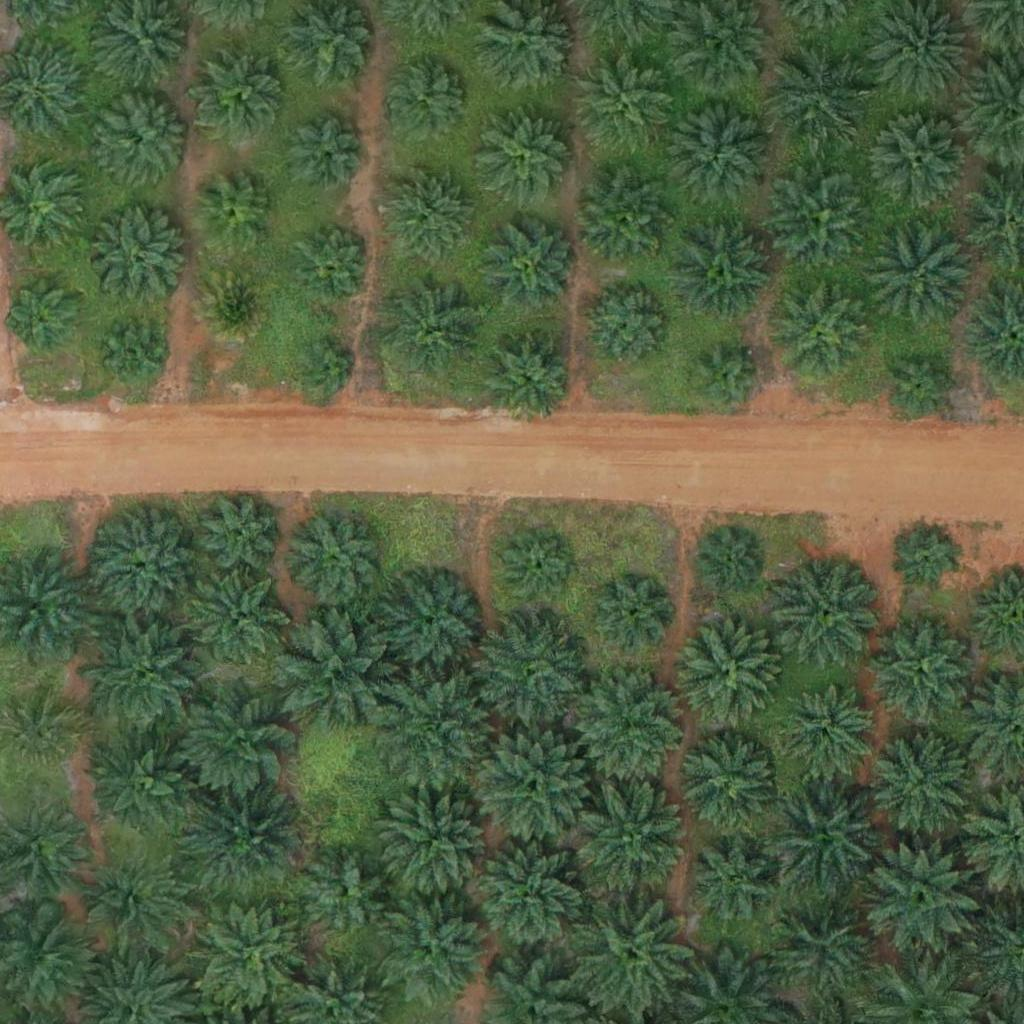Kelapa_Sawit: (80, 608, 205, 734), (175, 678, 300, 804), (272, 611, 397, 737), (375, 670, 500, 796), (469, 835, 594, 961), (570, 777, 695, 903), (569, 892, 694, 1018), (761, 768, 886, 894), (760, 887, 885, 1013), (861, 837, 986, 963), (381, 788, 494, 902), (379, 893, 492, 1006), (573, 670, 686, 783), (476, 726, 588, 840), (89, 730, 201, 843), (76, 846, 188, 959), (188, 783, 300, 896), (193, 902, 305, 1015), (471, 611, 583, 724), (870, 112, 970, 213), (870, 221, 970, 322), (769, 44, 869, 145), (771, 170, 871, 271), (771, 282, 871, 383), (671, 102, 771, 203), (672, 224, 772, 325), (578, 51, 678, 152), (577, 168, 677, 269), (475, 109, 575, 210), (90, 511, 190, 612), (678, 620, 778, 721), (677, 735, 777, 836), (780, 561, 880, 662), (774, 682, 874, 783), (871, 618, 971, 719), (871, 730, 971, 831), (478, 326, 578, 426), (384, 276, 484, 376), (94, 90, 194, 190), (90, 208, 190, 308), (189, 568, 289, 668), (379, 574, 479, 674), (684, 831, 784, 931), (583, 282, 671, 370), (197, 53, 285, 141), (303, 849, 391, 937), (488, 222, 575, 310), (382, 53, 469, 141), (384, 165, 471, 253), (287, 2, 374, 90), (195, 489, 282, 577), (289, 515, 376, 603), (197, 178, 272, 254), (287, 117, 362, 193), (500, 532, 575, 608), (689, 341, 764, 417), (294, 226, 369, 302), (198, 267, 273, 343), (96, 316, 171, 392), (4, 695, 79, 770), (597, 576, 672, 651), (885, 349, 960, 424), (6, 275, 81, 350), (698, 530, 761, 593), (296, 339, 358, 402), (898, 528, 960, 591)
